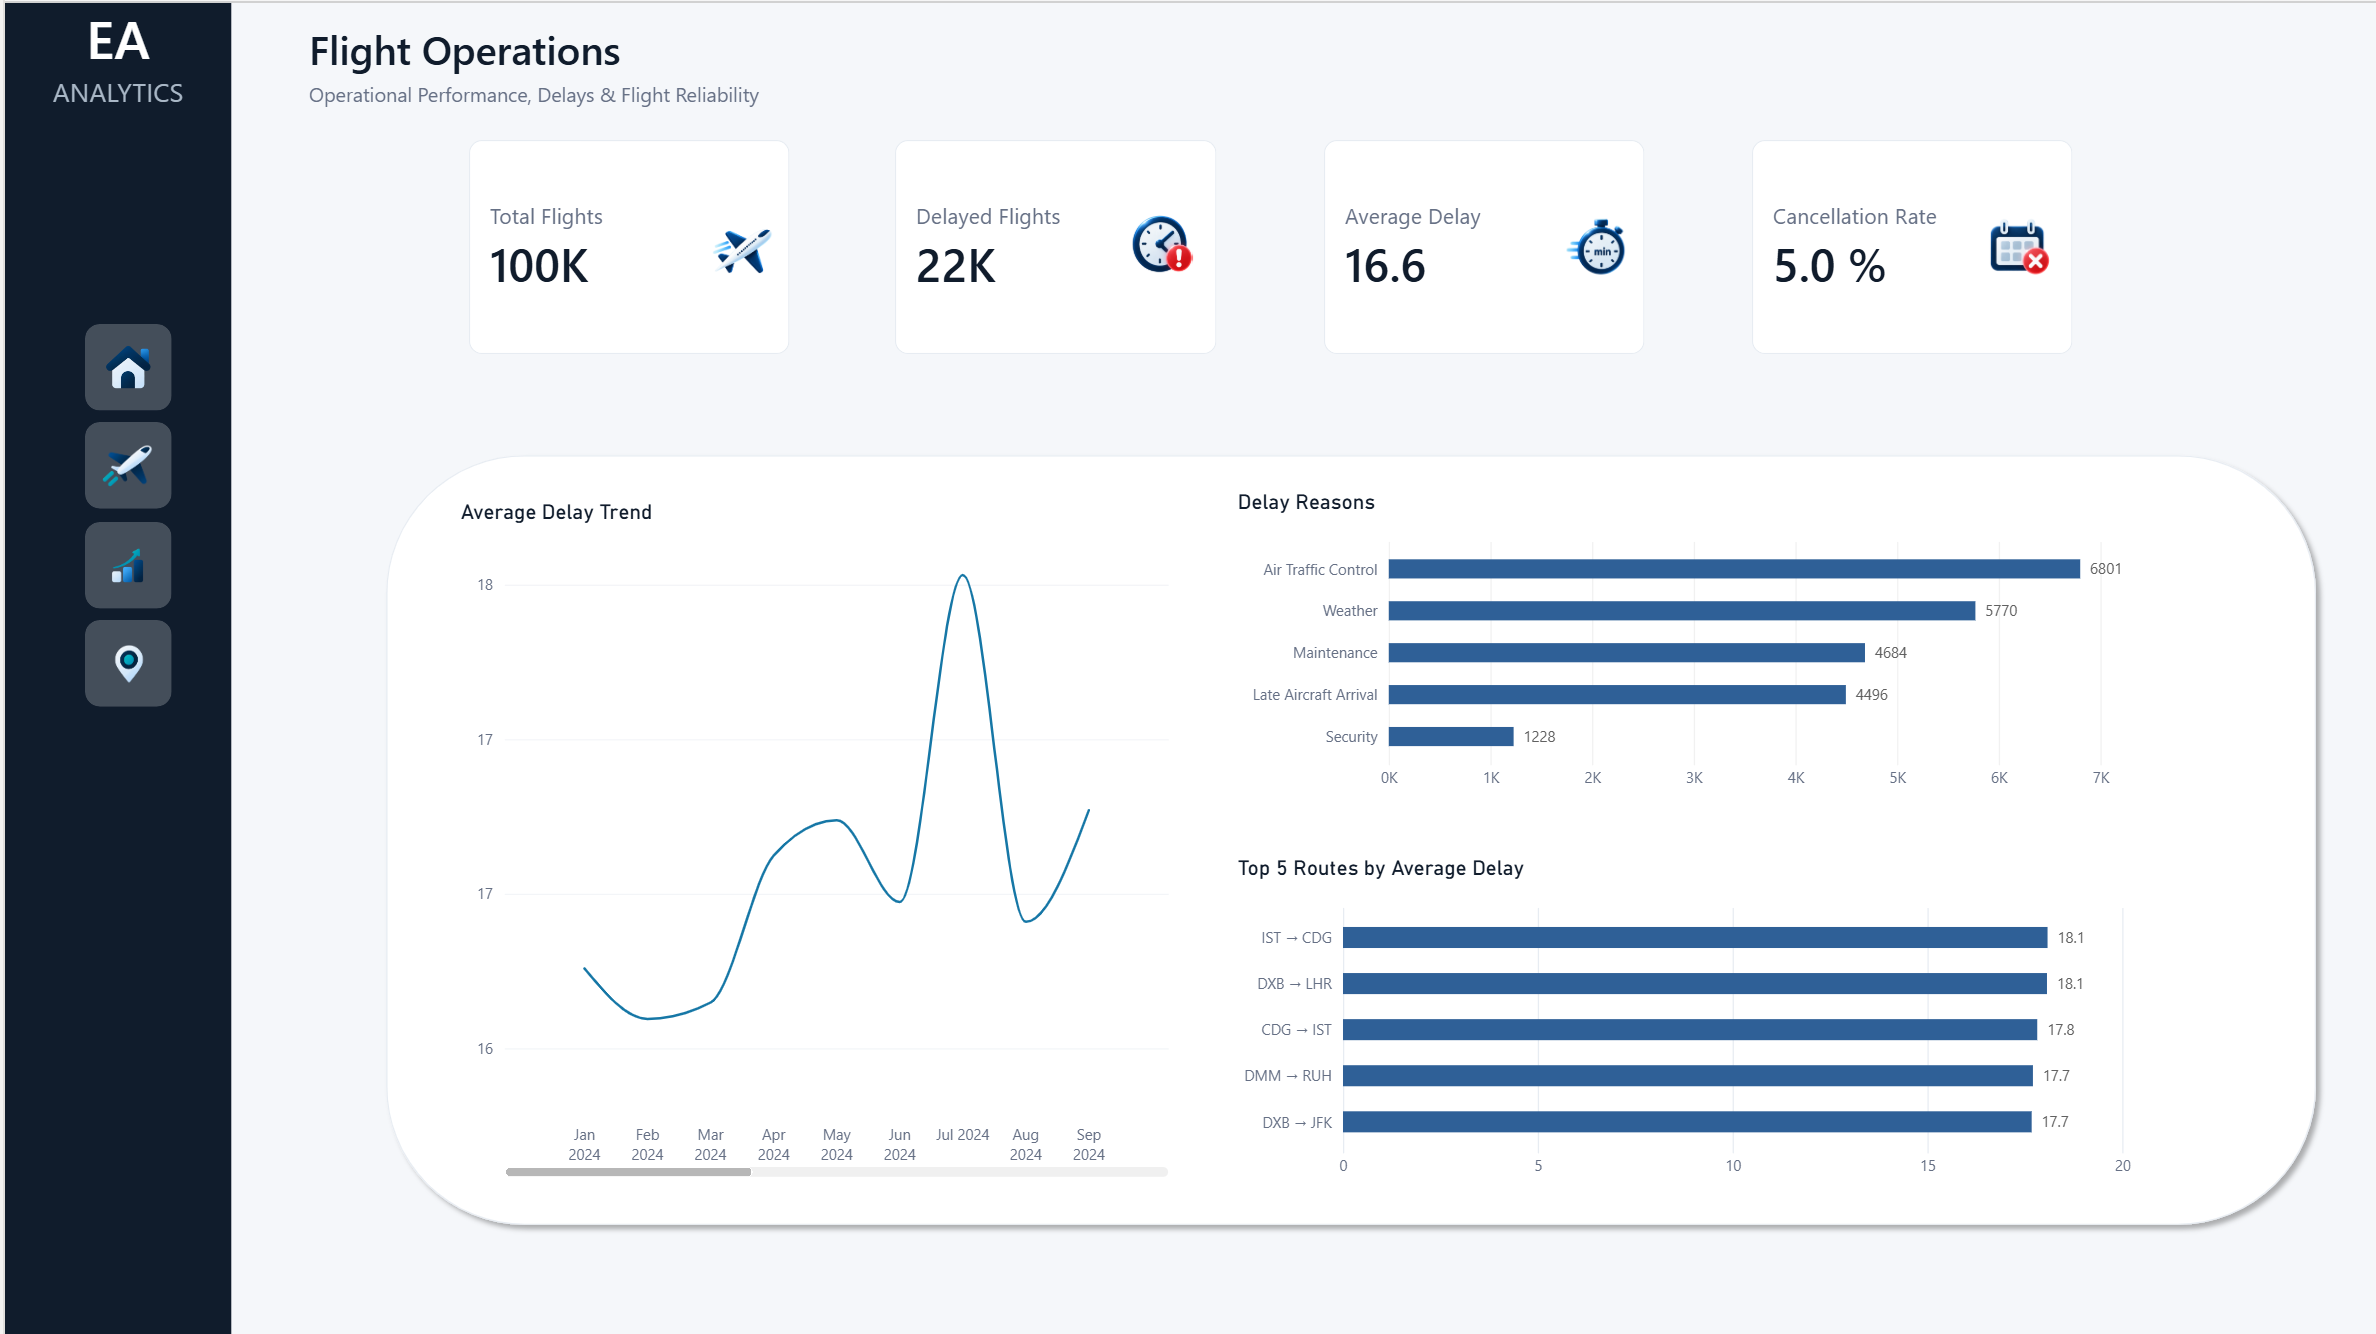

The page's visual inventory and layout, read from the dashboard file:
{"tool":"powerbi","page":{"name":"02 | Flight Operations","canvas":[1920,1080],"ordinal":1},"visuals":[{"type":"shape","box":[298.5,356.4,1576.7,640],"z":0},{"type":"shape","box":[0,0,182.9,1079.3],"z":1000},{"type":"textbox","box":[246,15.9,325.3,68.2],"z":2000},{"type":"textbox","box":[246,63.5,560.1,66.6],"z":3000},{"type":"textbox","box":[0,0,182.9,58],"z":4000},{"type":"textbox","box":[0,58,182.9,55.7],"z":5000},{"type":"actionButton","box":[64.7,260.9,70,70],"z":6000},{"type":"image","box":[78,276.5,44.6,37.9],"z":7000},{"type":"actionButton","box":[64,340,70,70],"z":8000},{"type":"actionButton","box":[64.7,420,70,70],"z":9000},{"type":"actionButton","box":[64.7,500,70,70],"z":10000},{"type":"image","box":[78,356,44,37],"z":11000},{"type":"image","box":[78,436,44,37],"z":12000},{"type":"image","box":[78,516,44,37],"z":13000},{"type":"cardVisual","fields":{"Data":["_Measures.Total Flights"]},"box":[374.2,111.7,259.3,173.6],"z":14000},{"type":"cardVisual","fields":{"Data":["_Measures.Delayed Flights"]},"box":[719.8,111.7,259.3,173.6],"z":15000},{"type":"cardVisual","fields":{"Data":["_Measures.Average Delay Minutes"]},"box":[1065.3,111.7,259.3,173.6],"z":16000},{"type":"cardVisual","fields":{"Data":["_Measures.Cancellation Rate"]},"box":[1410.8,111.7,259.3,173.6],"z":17000},{"type":"image","box":[571,171.7,50,50.4],"z":18000},{"type":"image","box":[910.6,171.7,50,50.4],"z":19000},{"type":"image","box":[1261.3,171.7,50,50.4],"z":20000},{"type":"image","box":[1600.9,171.7,50,50.4],"z":21000},{"type":"lineChart","title":"Average Delay Trend","fields":{"Category":["Dim_Date.Month Year"],"Y":["_Measures.Average Delay"]},"box":[352.3,388,606.6,577.6],"z":22000},{"type":"barChart","title":"Delay Reasons","fields":{"Category":["Fact_Delays.Delay_Reason"],"Y":["CountNonNull(Fact_Delays.Delay_ID)"]},"box":[979,379.1,753.7,276.5],"z":23000},{"type":"barChart","title":"Top 5 Routes by Average Delay","fields":{"Category":["Fact_Flights.Route"],"Y":["_Measures.Average Delay"]},"box":[979,675.7,753.7,294.4],"z":24000}]}

Visuals, with their boxes in screenshot pixels (x1, y1, x2, y2), scaled from the page's 1920x1080 canvas onto the 2376x1334 screenshot:
shape: l=369, t=440, r=2321, b=1231
shape: l=0, t=0, r=226, b=1333
textbox: l=304, t=20, r=707, b=104
textbox: l=304, t=78, r=998, b=161
textbox: l=0, t=0, r=226, b=72
textbox: l=0, t=72, r=226, b=140
actionButton: l=80, t=322, r=167, b=409
image: l=97, t=342, r=152, b=388
actionButton: l=79, t=420, r=166, b=506
actionButton: l=80, t=519, r=167, b=605
actionButton: l=80, t=618, r=167, b=704
image: l=97, t=440, r=151, b=485
image: l=97, t=539, r=151, b=584
image: l=97, t=637, r=151, b=683
cardVisual - _Measures.Total Flights: l=463, t=138, r=784, b=352
cardVisual - _Measures.Delayed Flights: l=891, t=138, r=1212, b=352
cardVisual - _Measures.Average Delay Minutes: l=1318, t=138, r=1639, b=352
cardVisual - _Measures.Cancellation Rate: l=1746, t=138, r=2067, b=352
image: l=707, t=212, r=768, b=274
image: l=1127, t=212, r=1189, b=274
image: l=1561, t=212, r=1623, b=274
image: l=1981, t=212, r=2043, b=274
"Average Delay Trend" lineChart: l=436, t=479, r=1187, b=1193
"Delay Reasons" barChart: l=1212, t=468, r=2144, b=810
"Top 5 Routes by Average Delay" barChart: l=1212, t=835, r=2144, b=1198
